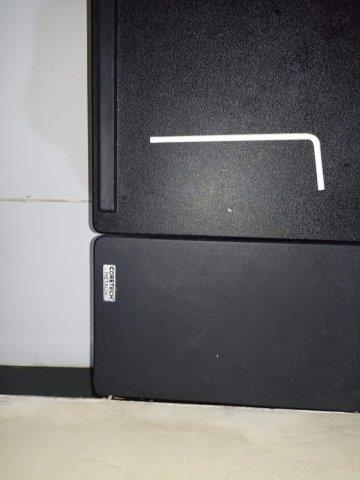sedotan: (150, 132, 324, 190)
